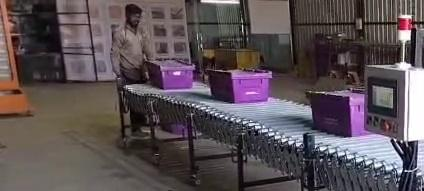box: (307, 92, 366, 136), (207, 70, 269, 102), (148, 60, 192, 89)
